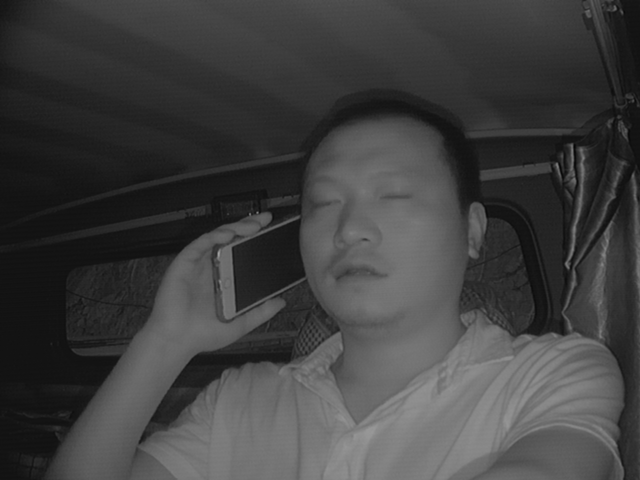hand: (160, 208, 263, 357)
